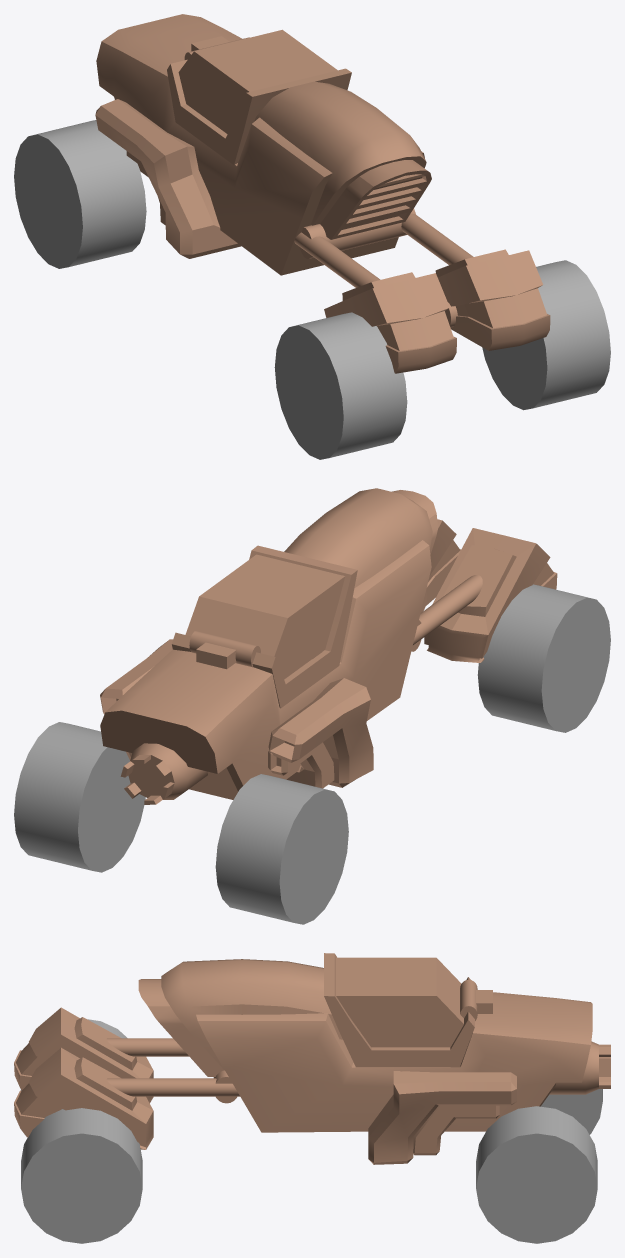
File: nave1.fbx
The picture shows the model from 3 angles, top to bottom: view 1: azimuth 30°, elevation 25°; view 2: azimuth 150°, elevation 25°; view 3: azimuth 270°, elevation 25°; orthographic projection. The views are drawn at different scales.
Visible parts, largest first — view 1: base, frente, pCylinder13, pCylinder12, pCylinder11, espaques; view 2: base, pCylinder13, pCylinder12, pCylinder14, frente, espaques, turbina; view 3: base, frente, pCylinder14, pCylinder11, espaques, turbina, pCylinder13.
Boxes of the visible parts, x1=… form: base: x1=96, y1=14, x2=431, y2=275; frente: x1=294, y1=208, x2=550, y2=373; pCylinder13: x1=14, y1=120, x2=146, y2=268; pCylinder12: x1=274, y1=312, x2=407, y2=459; pCylinder11: x1=482, y1=260, x2=610, y2=410; espaques: x1=95, y1=99, x2=241, y2=258; base: x1=100, y1=488, x2=437, y2=799; pCylinder13: x1=215, y1=774, x2=348, y2=924; pCylinder12: x1=477, y1=584, x2=610, y2=732; pCylinder14: x1=14, y1=722, x2=145, y2=872; frente: x1=411, y1=519, x2=557, y2=662; espaques: x1=100, y1=639, x2=373, y2=788; turbina: x1=120, y1=743, x2=207, y2=804; base: x1=138, y1=953, x2=592, y2=1132; frente: x1=14, y1=1007, x2=239, y2=1149; pCylinder14: x1=476, y1=1106, x2=597, y2=1243; pCylinder11: x1=21, y1=1108, x2=142, y2=1243; espaques: x1=368, y1=1071, x2=516, y2=1164; turbina: x1=549, y1=1041, x2=610, y2=1094; pCylinder13: x1=541, y1=1089, x2=602, y2=1134.
Bounding box in the file's own units: 229 × 203 × 501.
